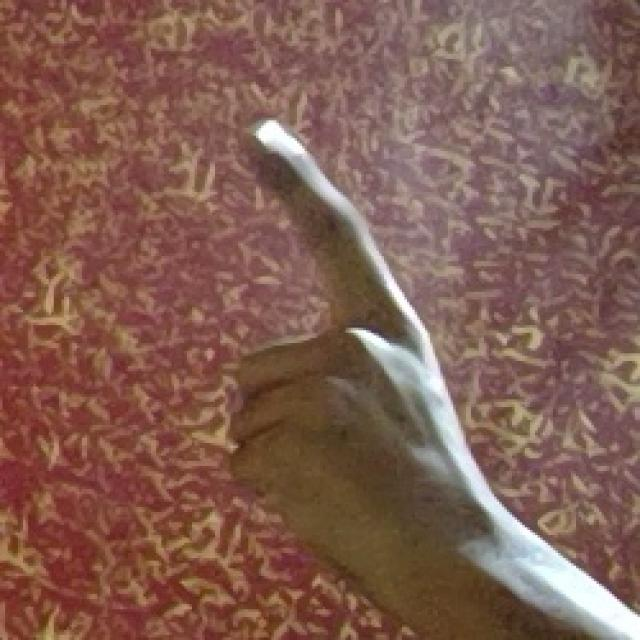Alphabet-I: (184, 109, 488, 613)
